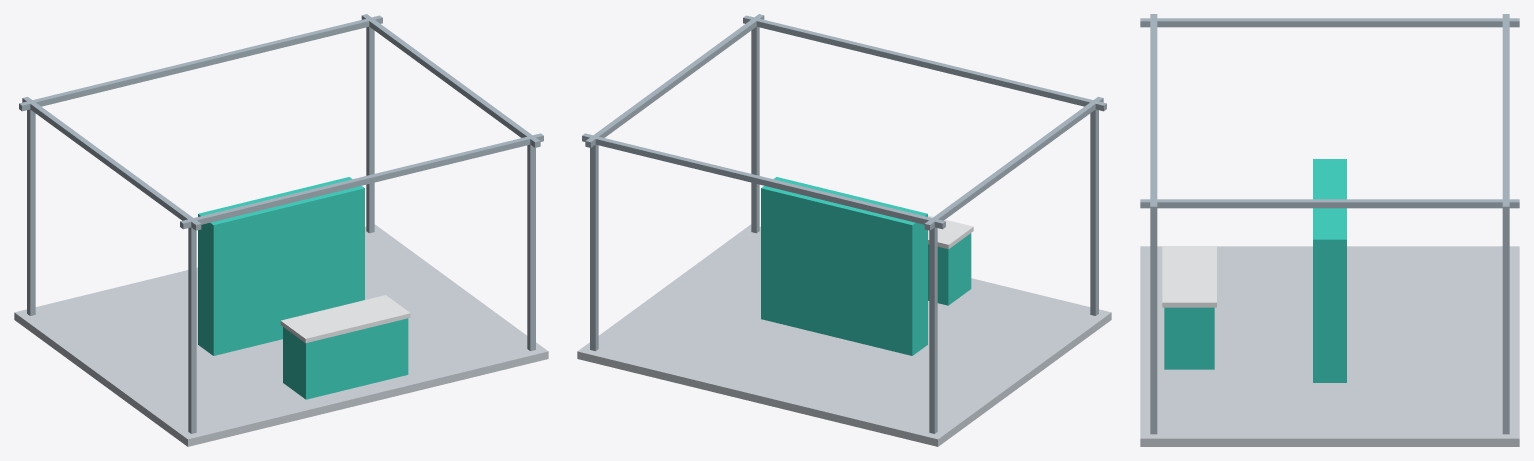
The picture shows the model from 3 angles, left to right: view 1: azimuth 30°, elevation 25°; view 2: azimuth 150°, elevation 25°; view 3: azimuth 270°, elevation 25°; orthographic projection. The views are drawn at different scales.
Visible parts, largest first — view 1: Exhibition Booth Concept; view 2: Exhibition Booth Concept; view 3: Exhibition Booth Concept.
Boxes of the visible parts, left/top/right/bottom form: Exhibition Booth Concept: left=14, top=14, right=548, bottom=446; Exhibition Booth Concept: left=577, top=14, right=1111, bottom=446; Exhibition Booth Concept: left=1140, top=14, right=1519, bottom=446.
Size of the model in its own units: 6 by 3.49 by 5.
